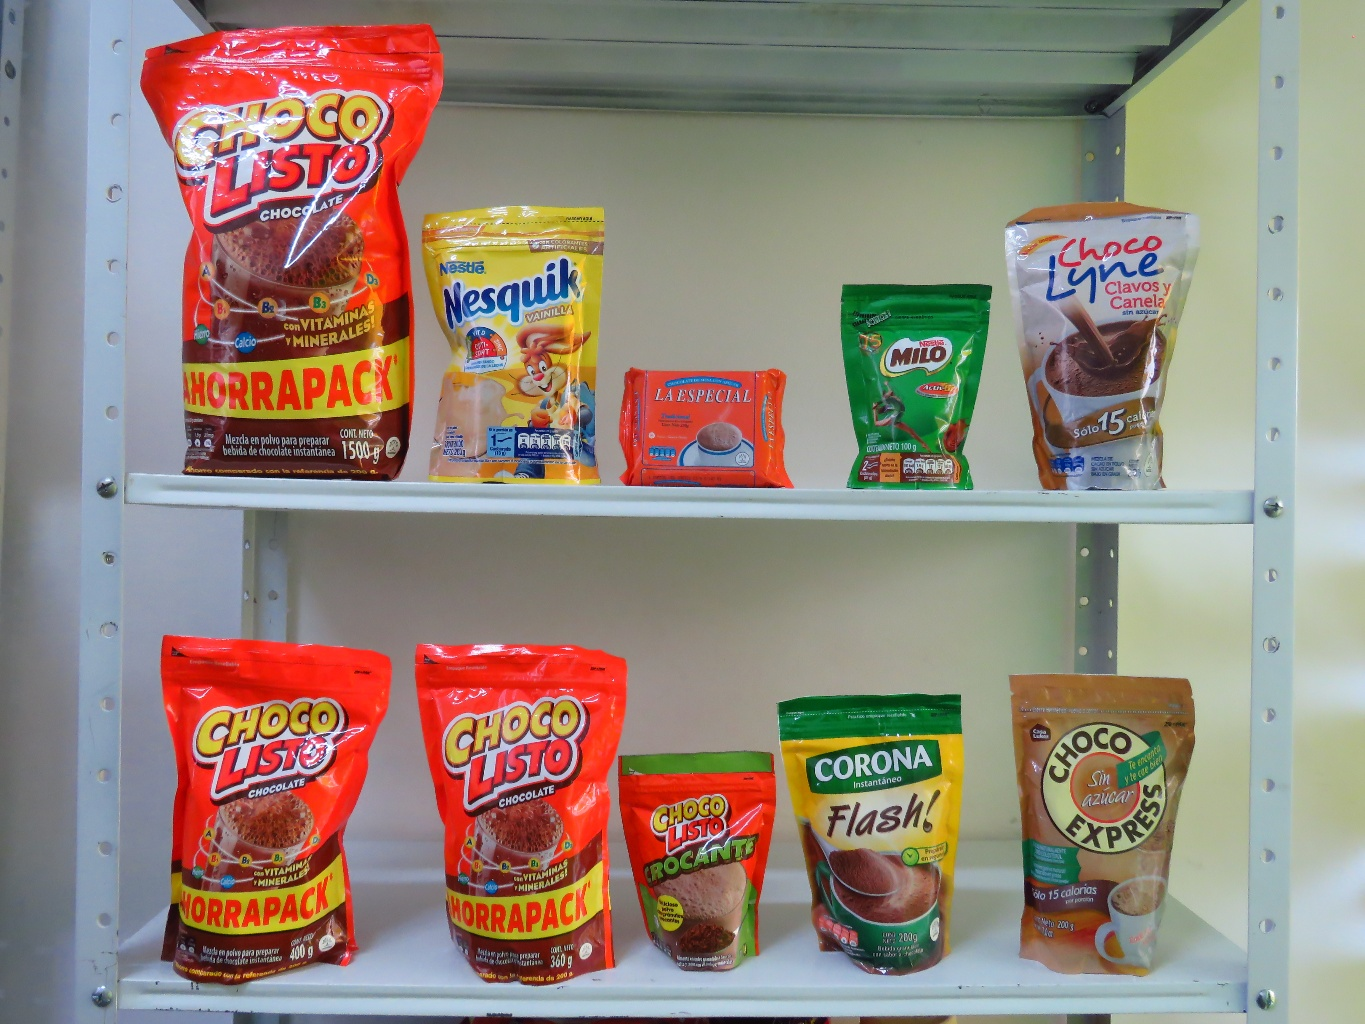COL0170102DYP10000: (595, 733, 806, 1005)
COL0170103DYP1,500: (111, 9, 451, 480)
COL0170103DYP36000: (395, 630, 665, 998)
COL0170103DYP40000: (120, 617, 393, 992)
COL0170203DYP10000: (808, 267, 1000, 498)
COL0170306DYP20000: (414, 193, 632, 493)
